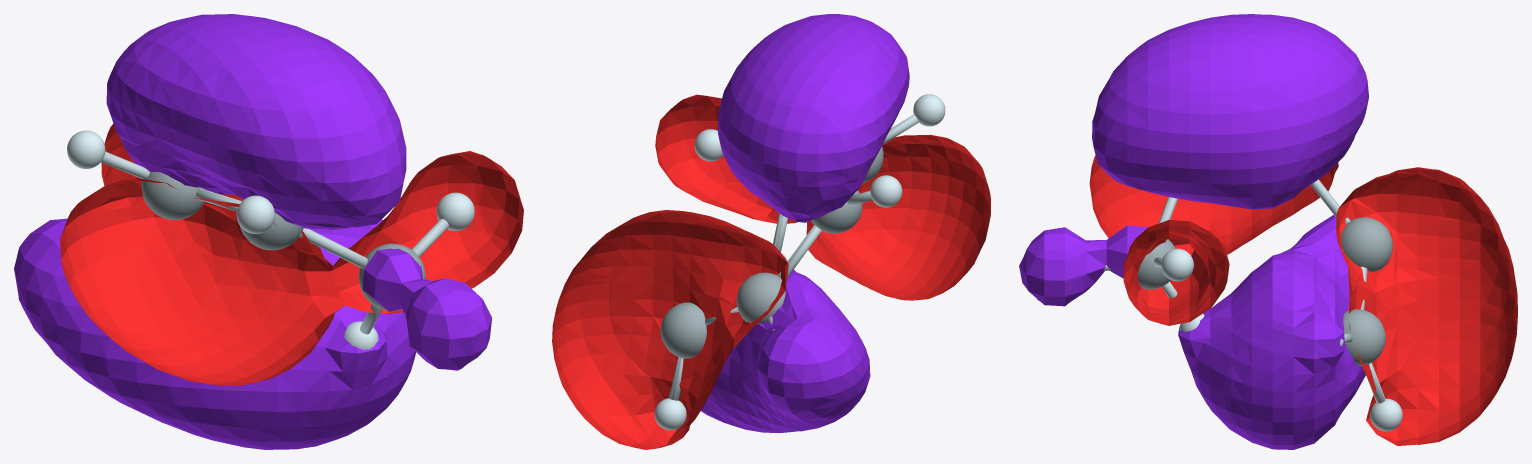
3 views of the same model, side by side, from view 1: azimuth 30°, elevation 25°; view 2: azimuth 150°, elevation 25°; view 3: azimuth 270°, elevation 25° (orthographic). The views are drawn at different scales.
Visible parts, largest first — view 1: Renderer Node; view 2: Renderer Node; view 3: Renderer Node.
Boxes of the visible parts, bbox=[...] form: Renderer Node: bbox=[14, 14, 523, 449]; Renderer Node: bbox=[552, 14, 990, 449]; Renderer Node: bbox=[1019, 14, 1517, 449].
Bounding box in the file's own units: 4.78 × 5.16 × 6.07.
